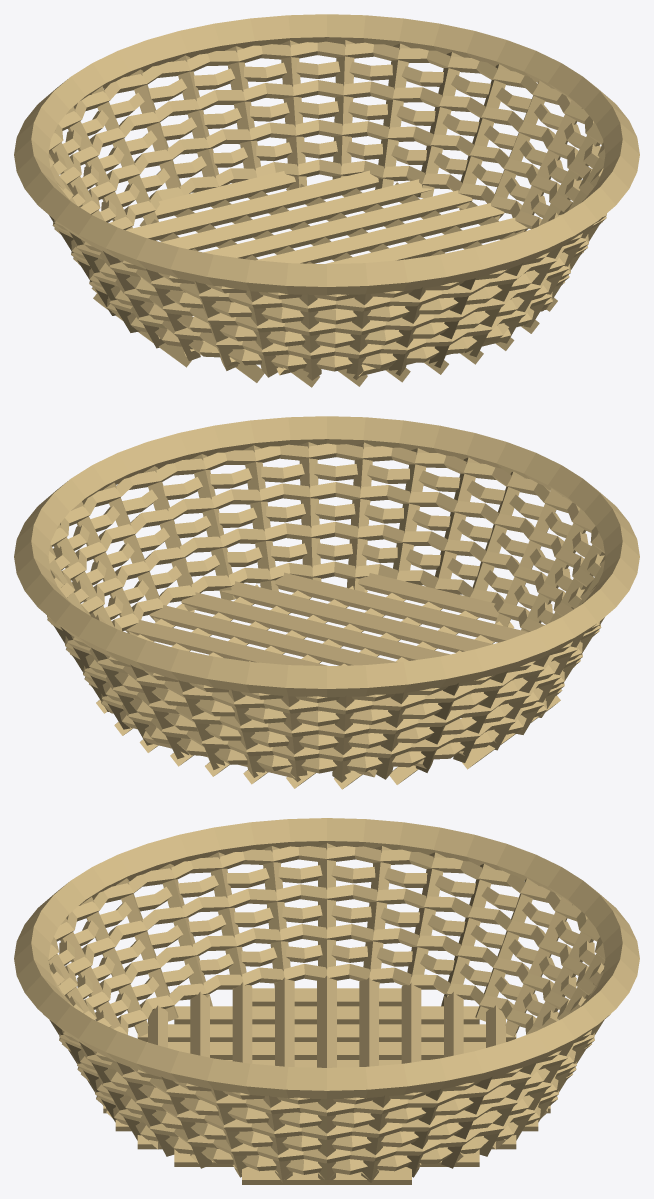
3 renders of one model, top to bottom at view 1: azimuth 30°, elevation 25°; view 2: azimuth 150°, elevation 25°; view 3: azimuth 270°, elevation 25°, orthographic.
Visible parts, largest first — view 1: BA-0021 batched; view 2: BA-0021 batched; view 3: BA-0021 batched.
Part boxes in pixels (left/top/right/bottom): BA-0021 batched: left=14, top=14, right=639, bottom=387; BA-0021 batched: left=14, top=416, right=639, bottom=789; BA-0021 batched: left=14, top=818, right=639, bottom=1184.
Bounding box in the file's own units: 0.762 × 0.205 × 0.762.
